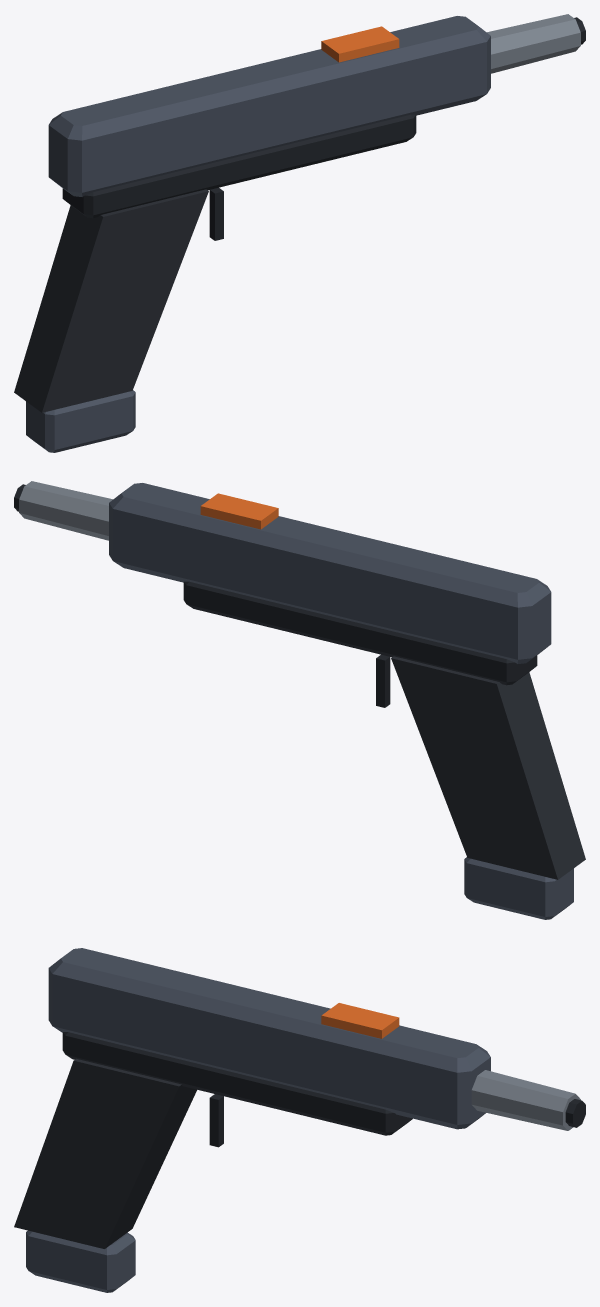
The model's file is pistol_magfed.glb.
3 views of the same model, one above another, from view 1: azimuth 30°, elevation 25°; view 2: azimuth 150°, elevation 25°; view 3: azimuth 330°, elevation 25° (orthographic).
Parts seen in each view (by area): view 1: pistol_magfed; view 2: pistol_magfed; view 3: pistol_magfed.
Boxes of the visible parts, x1,y1,x2,y2 form: pistol_magfed: [14, 14, 585, 452]; pistol_magfed: [14, 481, 585, 919]; pistol_magfed: [14, 948, 585, 1292].
Size of the model in its own units: 0.365 by 0.208 by 0.034.
